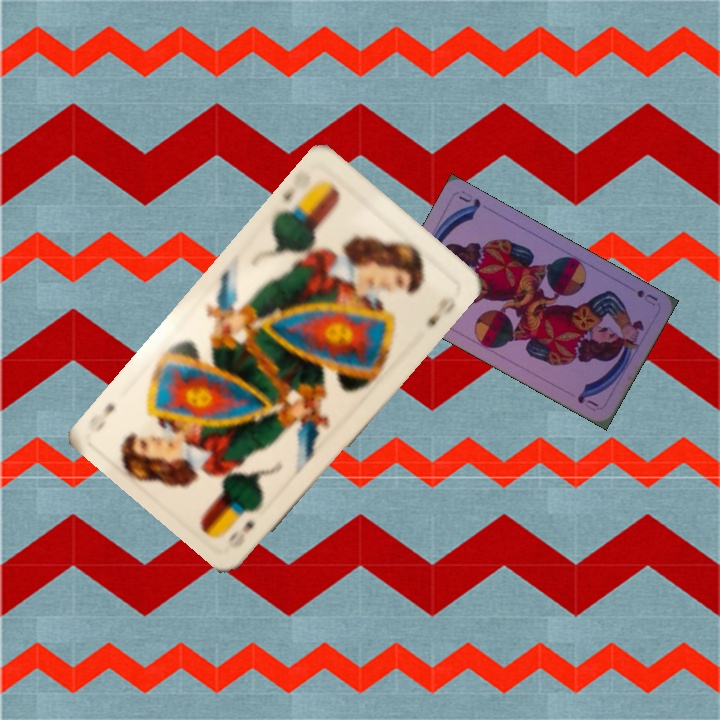EO: (277, 167, 314, 216), (224, 516, 258, 551)
SU: (632, 286, 660, 309)
